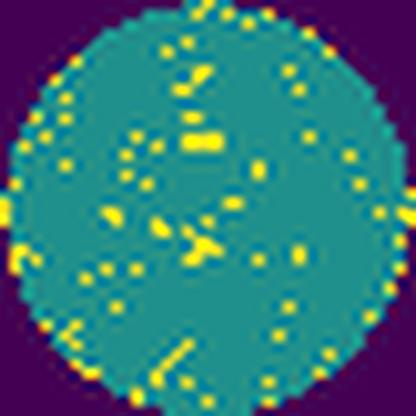Loc: (179, 226, 225, 264), (179, 128, 229, 153)
